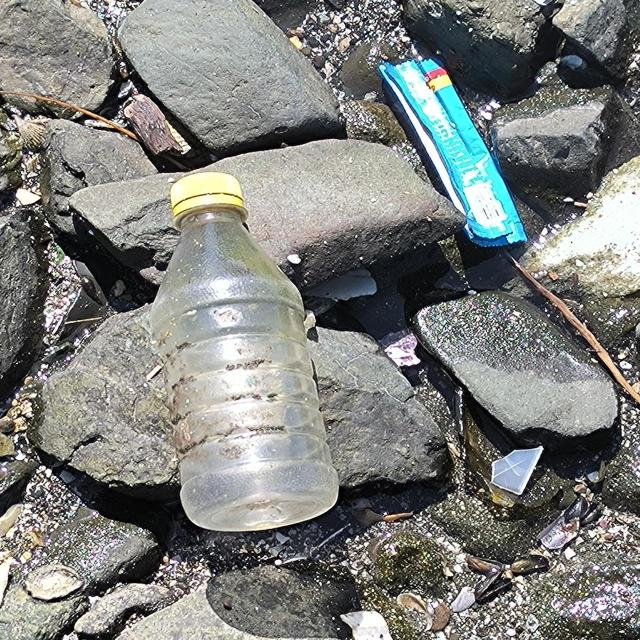plastic_waste: (149, 172, 343, 534), (378, 57, 532, 249)
